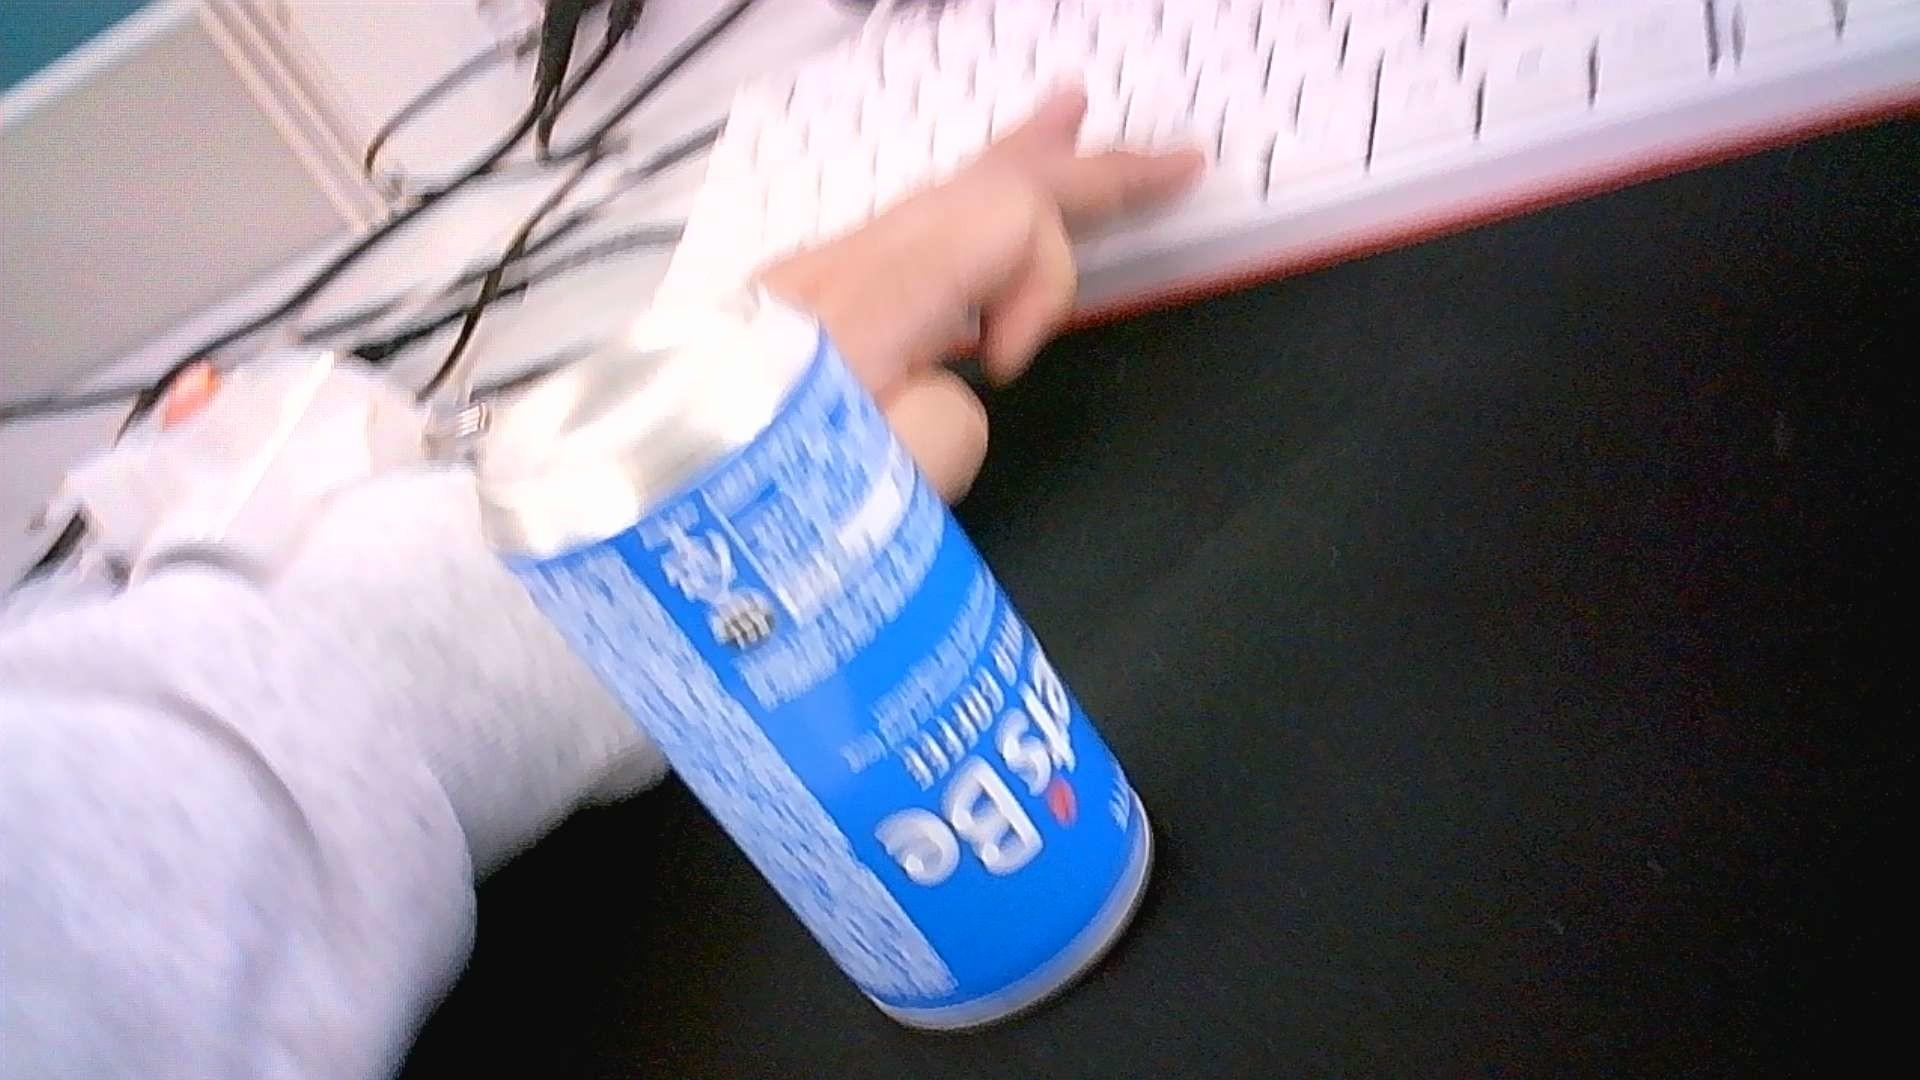letsbe: (477, 286, 1154, 1035)
